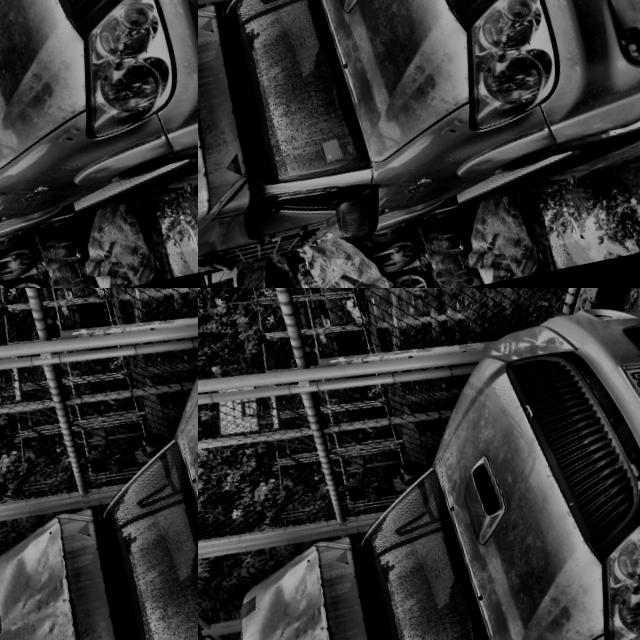license-plate: (607, 343, 640, 452)
